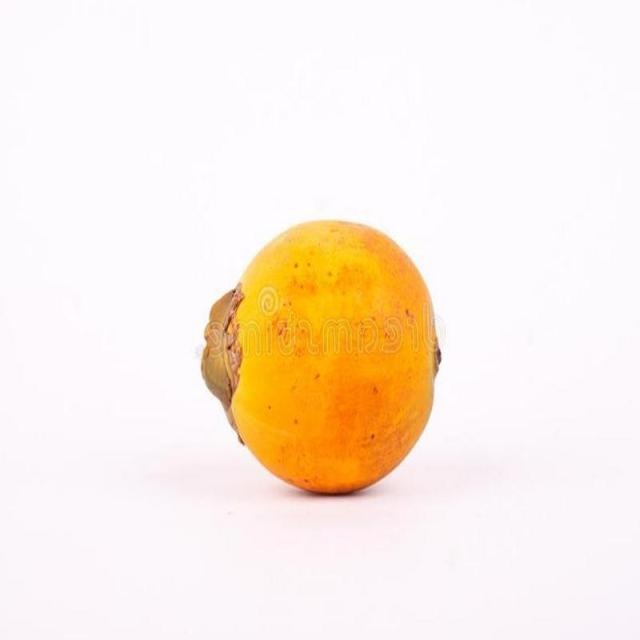good: (200, 221, 442, 497)
